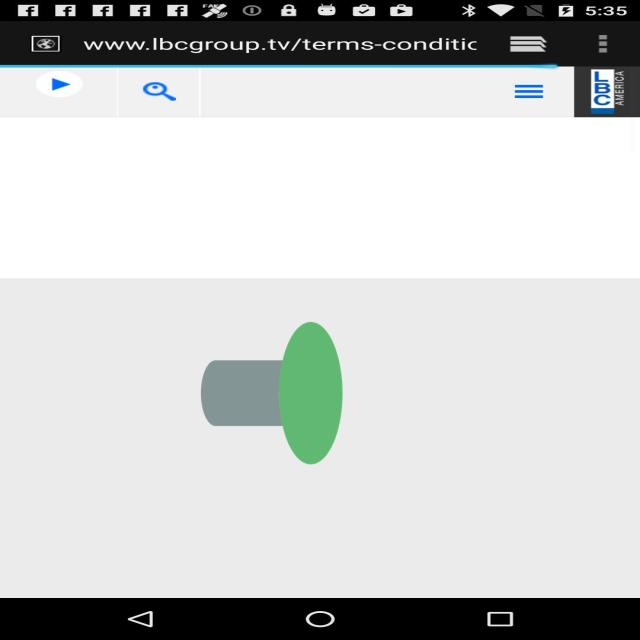social proof: (201, 234, 342, 552)
